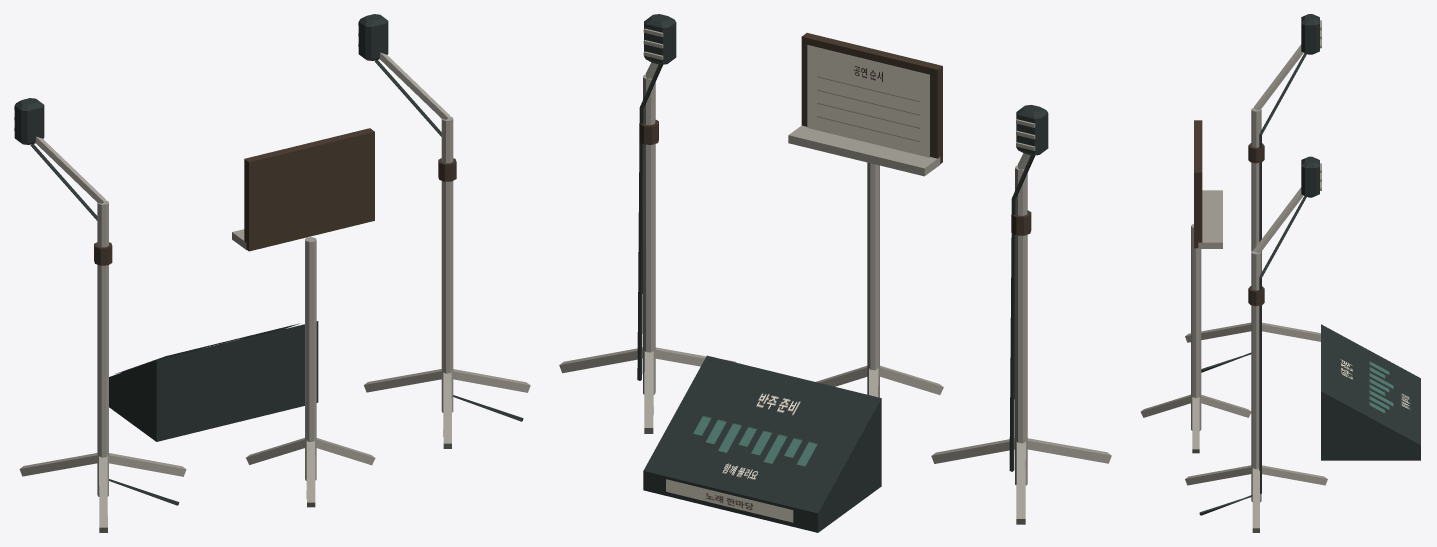
Rendered from P03_Vocal_Performance_Set.fbx.
The picture shows the model from 3 angles, left to right: view 1: azimuth 30°, elevation 25°; view 2: azimuth 150°, elevation 25°; view 3: azimuth 270°, elevation 25°; orthographic projection. The views are drawn at different scales.
Parts seen in each view (by area): view 1: Music_Rest, Floor_Monitor, Microphone_02, Microphone_01; view 2: Floor_Monitor, Music_Rest, Microphone_01, Microphone_02, Front_Label; view 3: Floor_Monitor, Microphone_02, Music_Rest, Microphone_01.
Part boxes in pixels (<box>): Music_Rest: <box>232,128,375,507</box>; Floor_Monitor: <box>109,321,318,441</box>; Microphone_02: <box>358,14,530,448</box>; Microphone_01: <box>14,98,186,532</box>; Floor_Monitor: <box>643,355,881,532</box>; Music_Rest: <box>788,33,943,397</box>; Microphone_01: <box>931,105,1111,524</box>; Microphone_02: <box>559,14,736,433</box>; Front_Label: <box>666,479,793,522</box>; Floor_Monitor: <box>1321,324,1420,460</box>; Microphone_02: <box>1185,156,1327,532</box>; Music_Rest: <box>1141,120,1251,453</box>; Microphone_01: <box>1185,14,1321,372</box>.
Bounding box in the file's own units: 2.5 × 1.9 × 1.5.
Materials: 4 (1 with a texture image).
